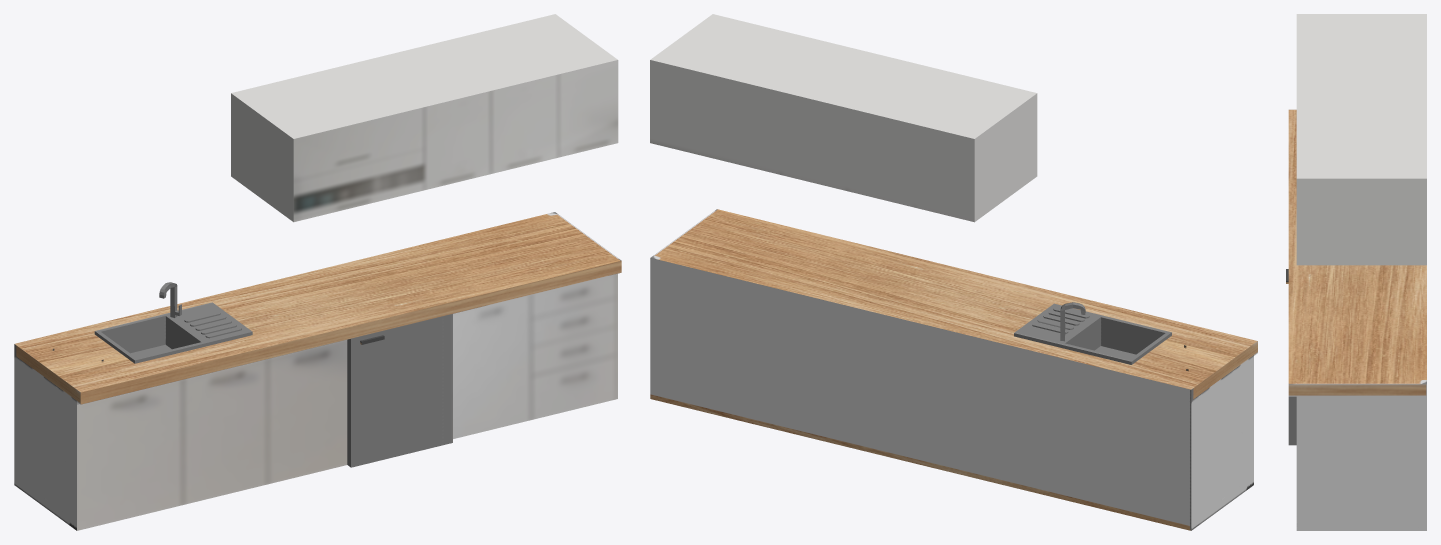
File: kuchnia1.glb
3 renders of one model, left to right at view 1: azimuth 30°, elevation 25°; view 2: azimuth 150°, elevation 25°; view 3: azimuth 270°, elevation 25°, orthographic. The views are drawn at different scales.
Parts seen in each view (by area): view 1: Cube.065, Cube.008; view 2: Cube.065, Cube.008; view 3: Cube.065, Cube.008.
Boxes of the visible parts, x1=… form: Cube.065: x1=14, y1=212, x2=621, y2=530; Cube.008: x1=231, y1=14, x2=618, y2=222; Cube.065: x1=650, y1=209, x2=1257, y2=530; Cube.008: x1=650, y1=14, x2=1037, y2=222; Cube.065: x1=1286, y1=109, x2=1426, y2=530; Cube.008: x1=1296, y1=14, x2=1426, y2=265.
Bounding box in the file's own units: 9.97 × 5.97 × 2.16.
2 materials, 2 textured.
